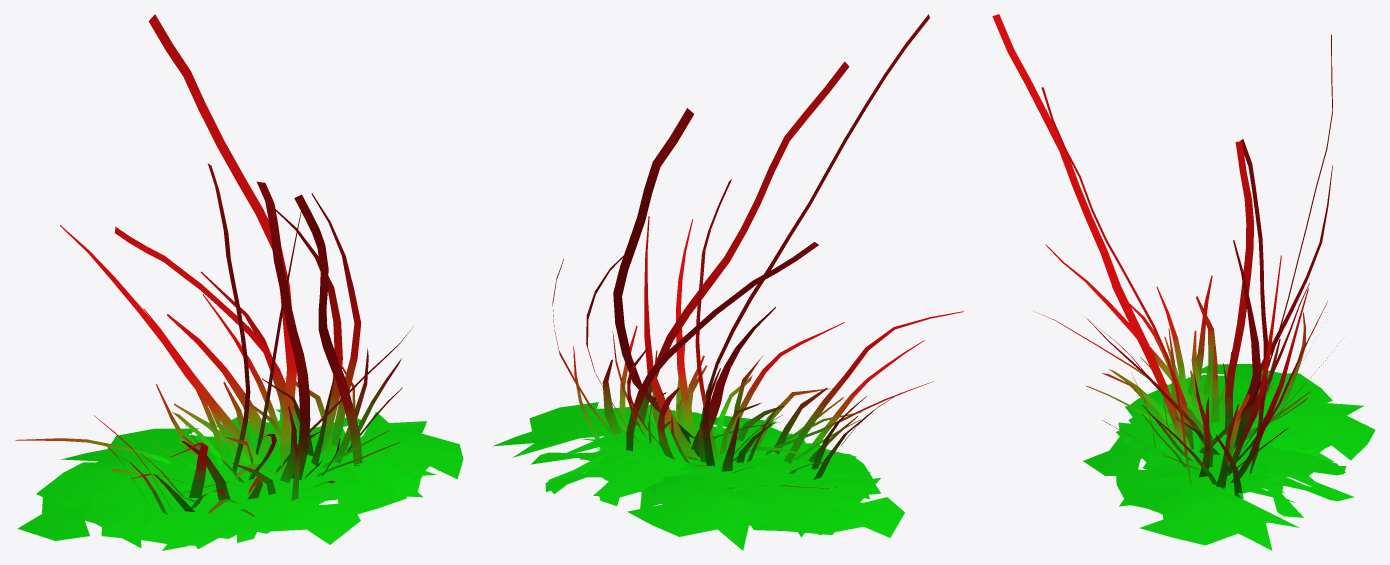
File: Wild Grass_LOD1_Var8_vczndjqja.fbx
The picture shows the model from 3 angles, left to right: view 1: azimuth 30°, elevation 25°; view 2: azimuth 150°, elevation 25°; view 3: azimuth 270°, elevation 25°; orthographic projection. The views are drawn at different scales.
Visible parts, largest first — view 1: _svju_Var8_LOD1; view 2: _svju_Var8_LOD1; view 3: _svju_Var8_LOD1.
Boxes of the visible parts, bbox=[...] form: _svju_Var8_LOD1: bbox=[15, 14, 463, 550]; _svju_Var8_LOD1: bbox=[493, 14, 963, 550]; _svju_Var8_LOD1: bbox=[992, 14, 1375, 550].
Bounding box in the file's own units: 89 × 90.44 × 76.68.
